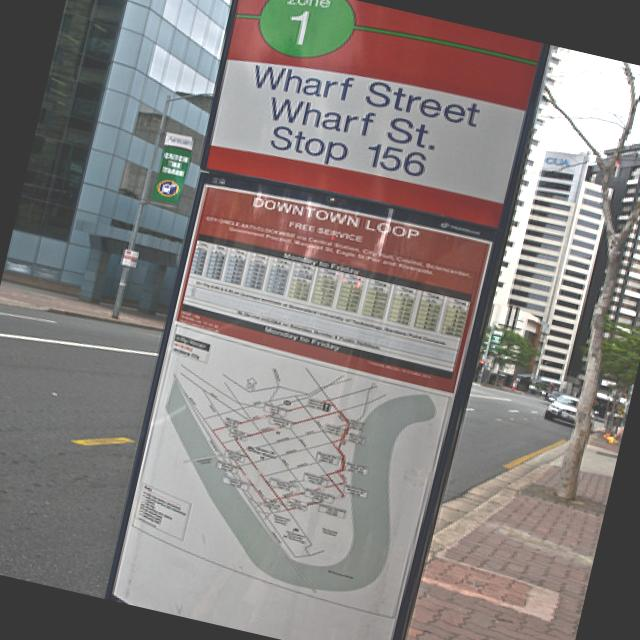Vehicle: (542, 391, 581, 426), (542, 391, 580, 426), (527, 380, 550, 397)
